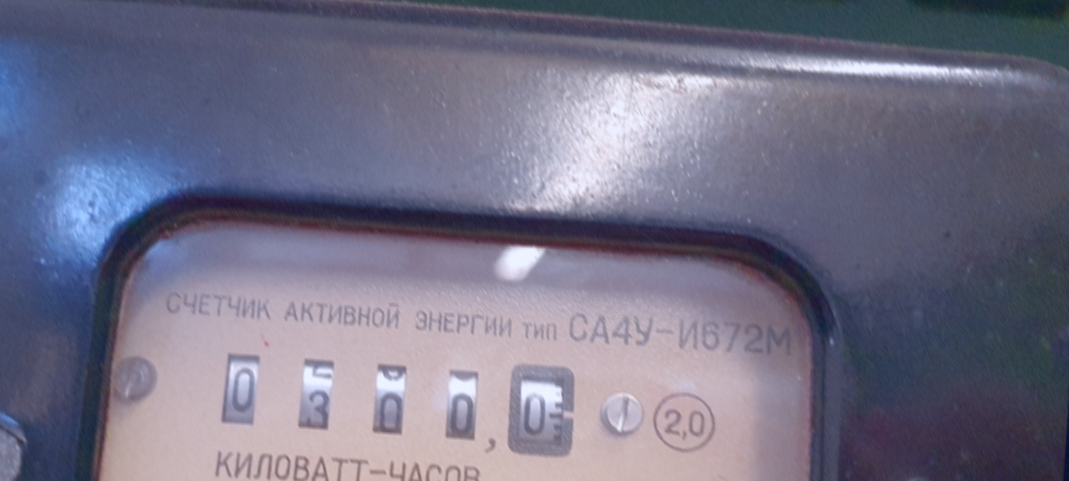0: (518, 389, 549, 439), (228, 362, 257, 415), (373, 386, 403, 436), (444, 390, 475, 438)
3: (301, 385, 332, 430)
screen: (198, 335, 585, 467)
